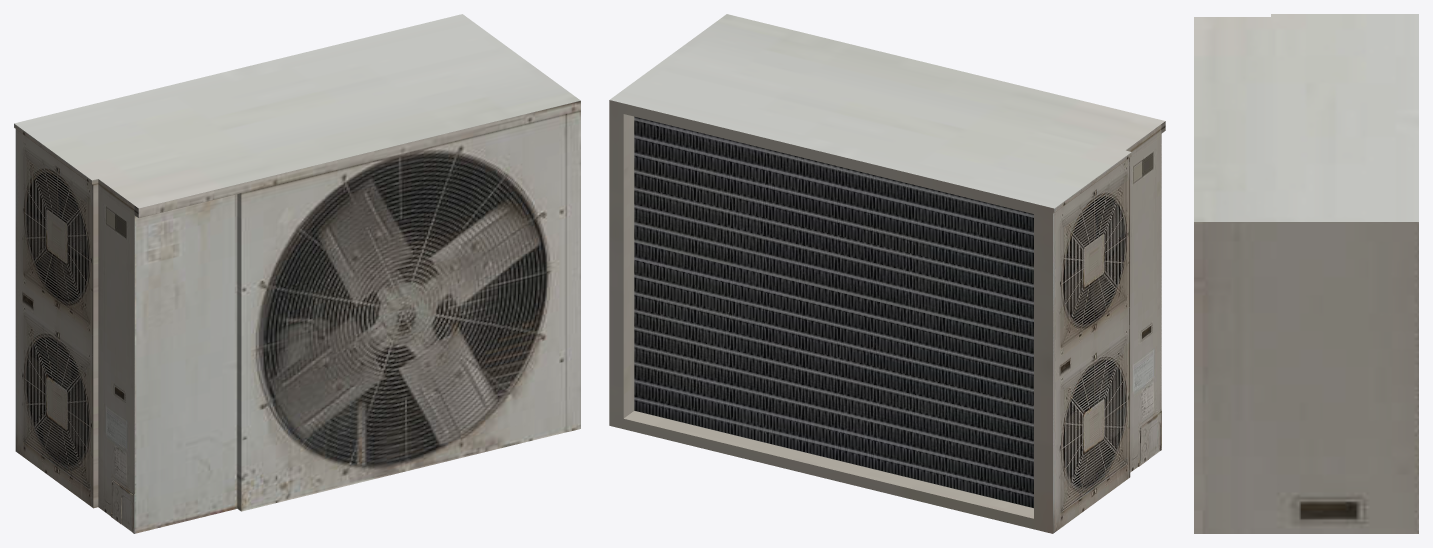
The model's file is Ac_unit.obj.
3 renders of one model, left to right at view 1: azimuth 30°, elevation 25°; view 2: azimuth 150°, elevation 25°; view 3: azimuth 270°, elevation 25°, orthographic. The views are drawn at different scales.
Visible parts, largest first — view 1: AC_Cube; view 2: AC_Cube; view 3: AC_Cube.
Boxes of the visible parts, <box> form: AC_Cube: <box>14,14,580,533</box>; AC_Cube: <box>609,14,1165,533</box>; AC_Cube: <box>1194,14,1418,533</box>.
Size of the model in its own units: 4.53 by 3.17 by 2.07.
